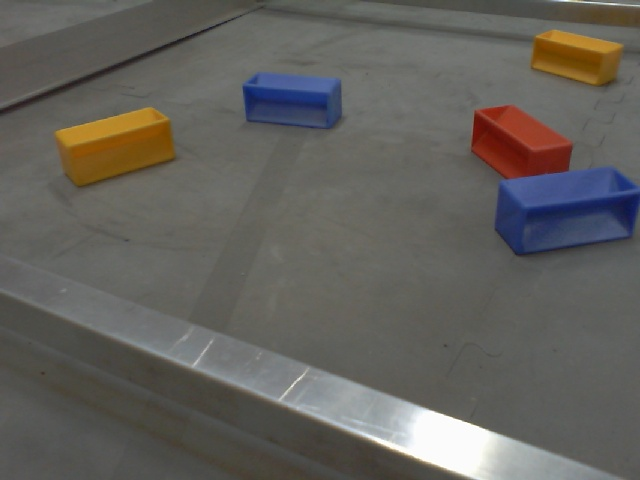BlueSample: (494, 162, 640, 256), (240, 68, 345, 131)
RedSample: (465, 102, 574, 182)
YellowSample: (50, 104, 177, 186), (528, 27, 624, 89)
